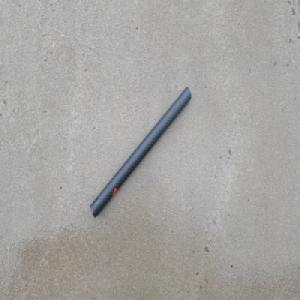LuggagePart: (89, 85, 192, 220)
